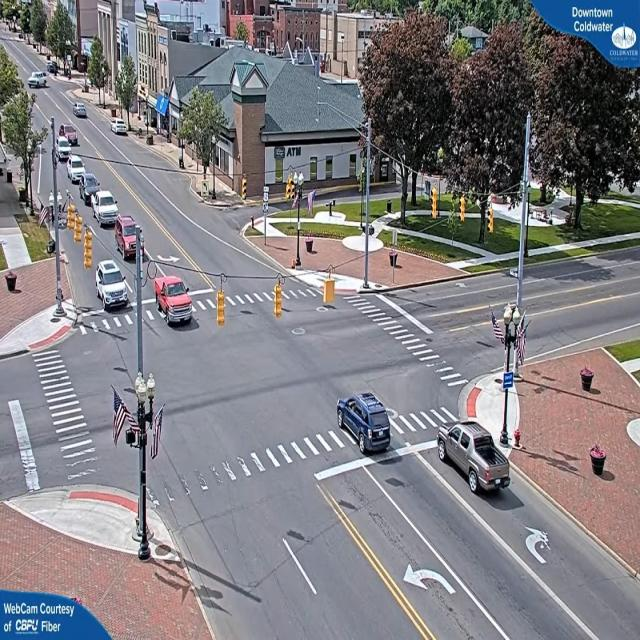car: (436, 422, 512, 495), (337, 393, 394, 457), (154, 274, 194, 328), (96, 260, 135, 312), (115, 220, 144, 258), (91, 192, 119, 228), (112, 120, 128, 135)
